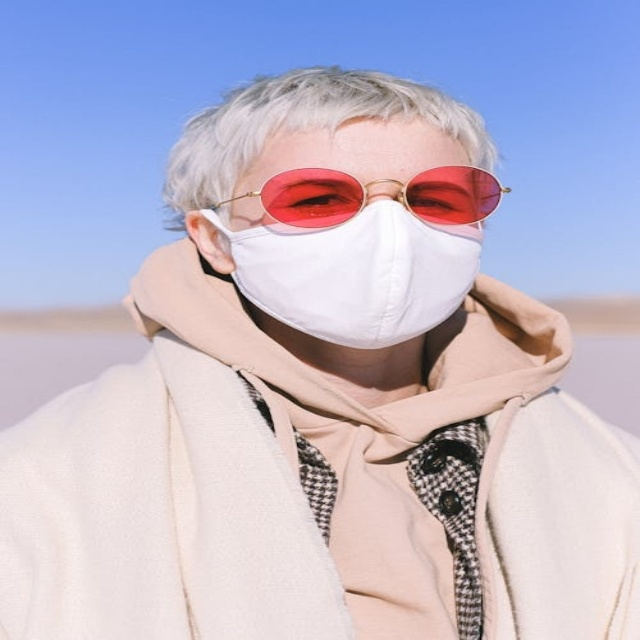Mascara: (205, 194, 486, 349)
Sin_gafas: (287, 193, 346, 209), (407, 196, 456, 211)
